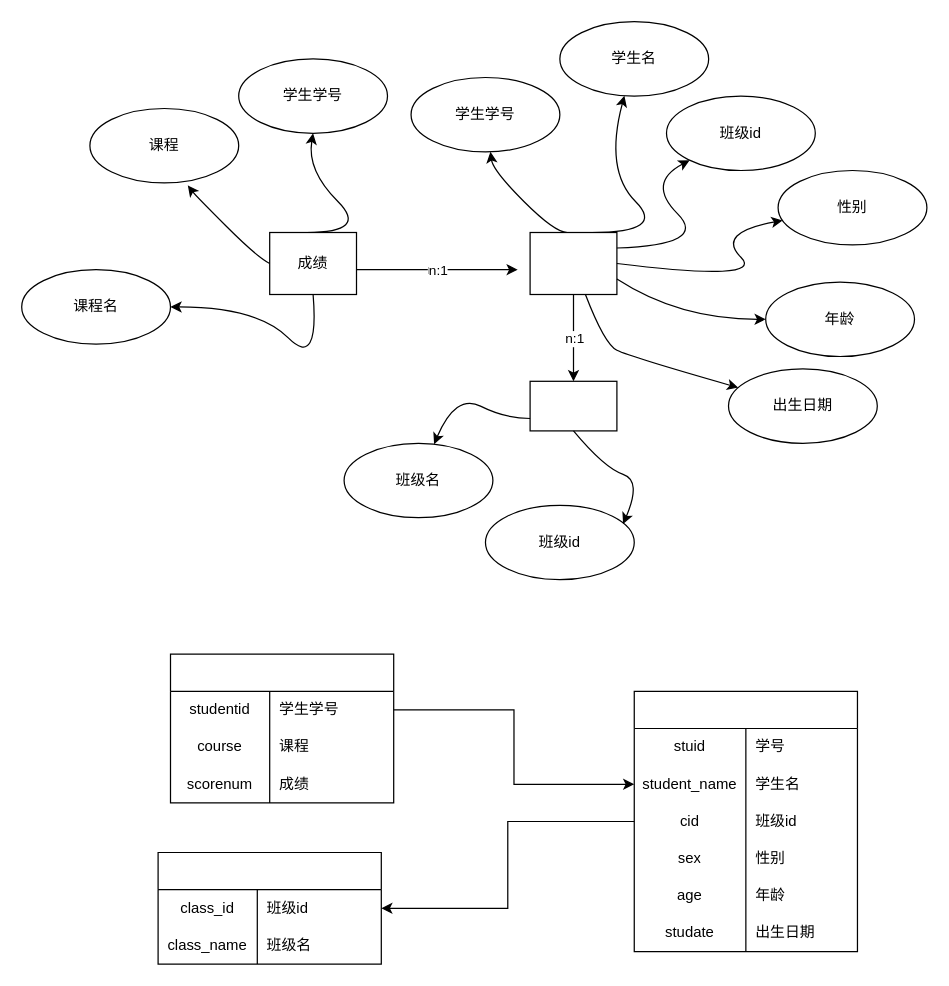
This 949x986 diagram has some shape labels left out. Each missing label, with the box of its shape:
gomore_class 班级: (157, 851, 381, 964)
gomore_score 成绩: (169, 653, 394, 803)
gomore_student 学生: (633, 690, 857, 952)
学生: (529, 231, 617, 294)
班级: (529, 380, 617, 431)
